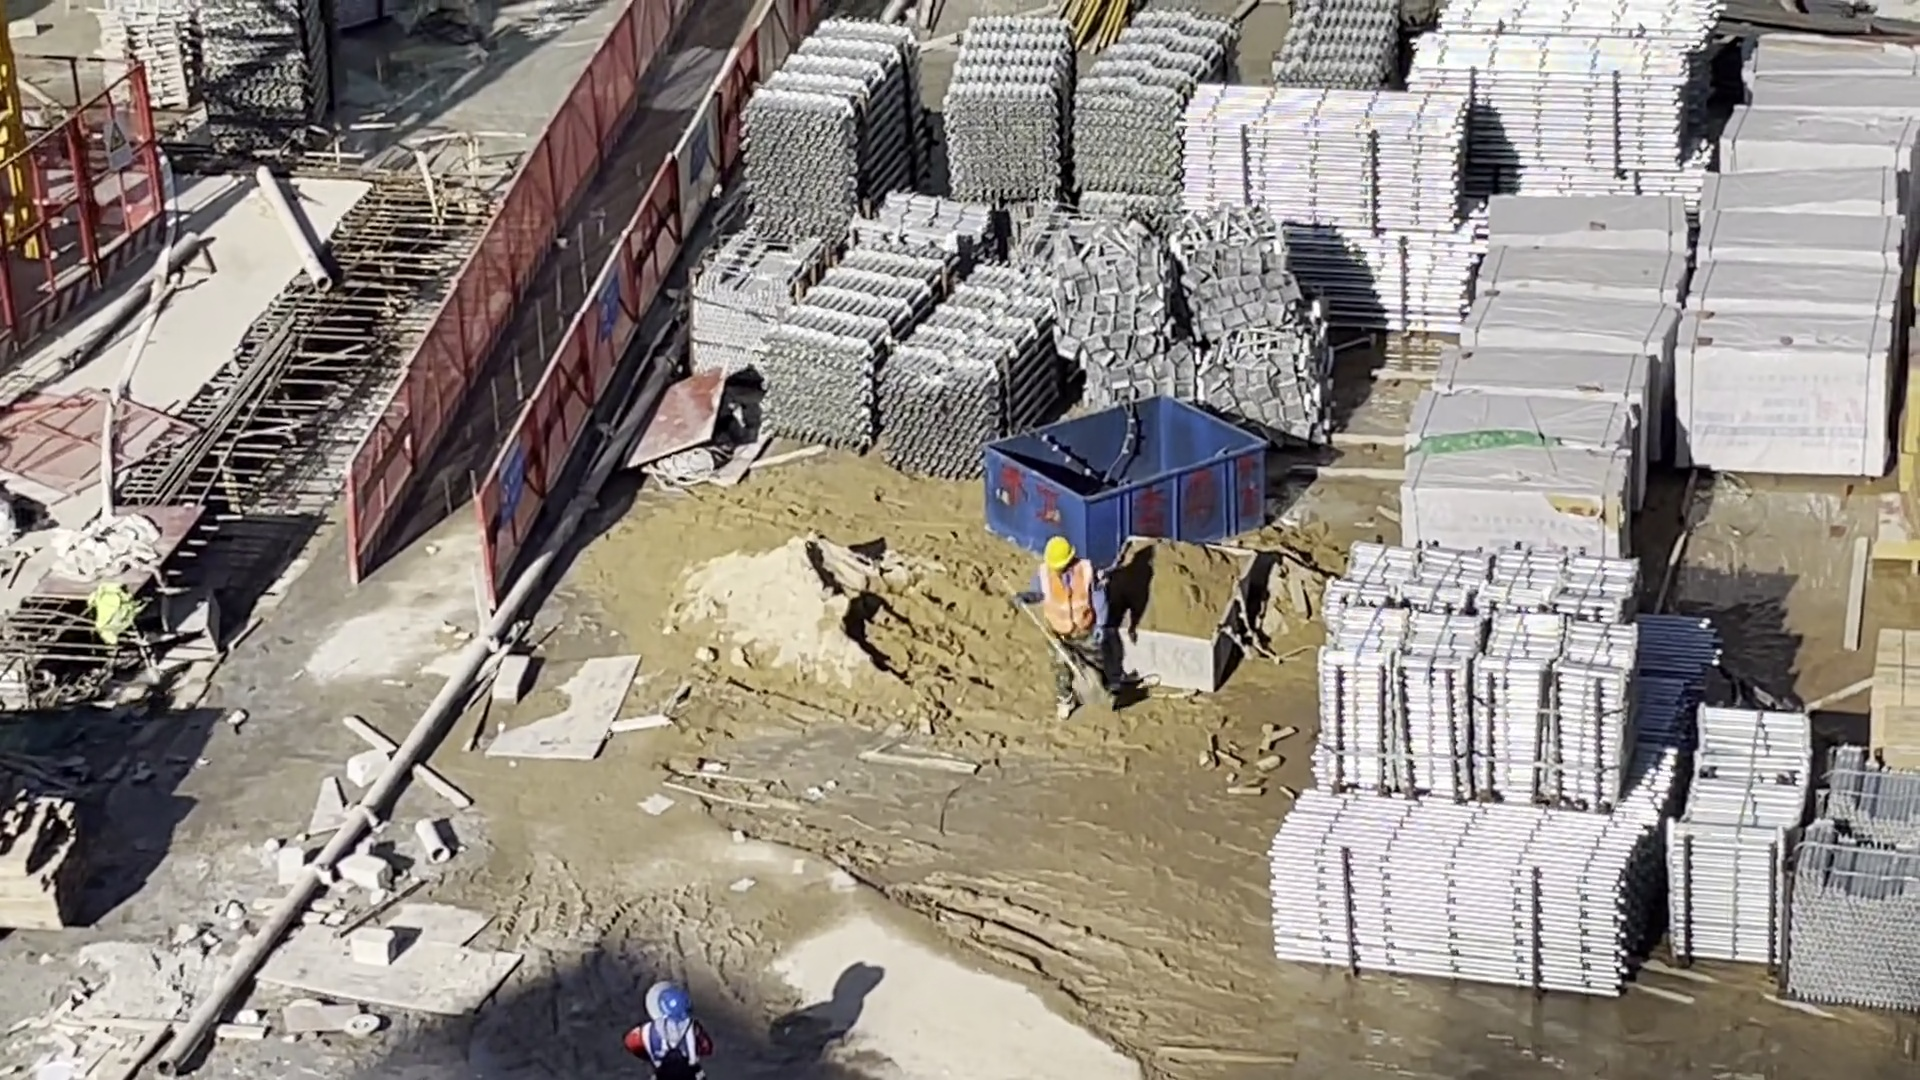board: (1865, 623, 1920, 760)
fence: (352, 4, 778, 562)
helmet: (659, 987, 692, 1023), (1045, 536, 1076, 569)
hopper: (990, 396, 1267, 568), (1111, 537, 1248, 699)
person: (1027, 542, 1132, 715), (631, 984, 703, 1080)
scaffold: (1321, 545, 1635, 801), (1266, 784, 1646, 995), (1179, 89, 1471, 335), (766, 247, 1069, 464), (946, 15, 1235, 200), (1413, 26, 1697, 172), (744, 26, 920, 231), (1788, 750, 1920, 1021), (1674, 700, 1805, 968), (200, 1, 329, 137), (1272, 1, 1397, 95), (94, 1, 201, 110)
slogan: (596, 261, 623, 337), (500, 442, 525, 518)
vest: (1039, 569, 1097, 641), (639, 1026, 692, 1065)
